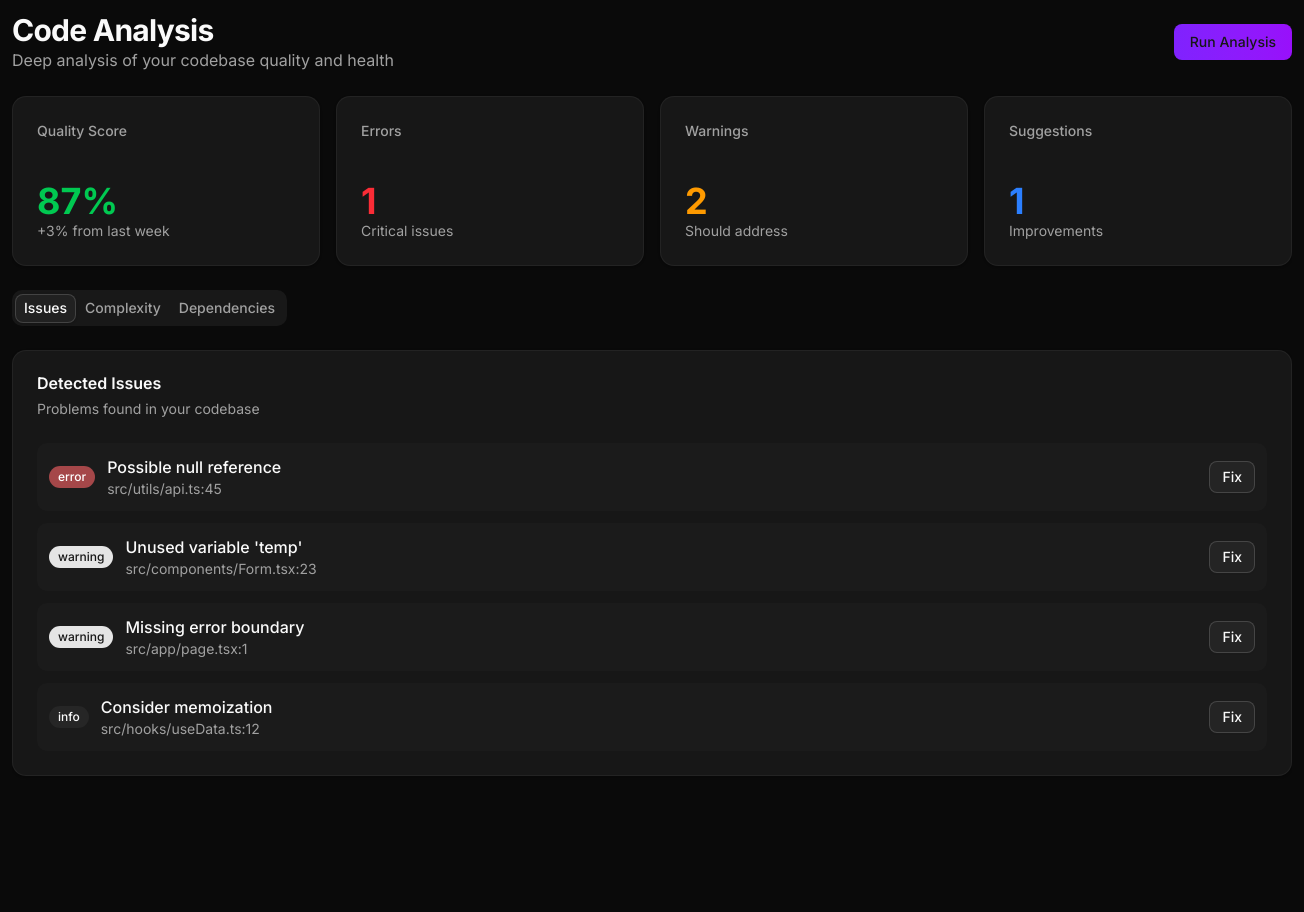
Test: AnalysisPage › changes button text when analyzing
Click the button "Run Analysis": (1233, 42) [1174,24,1292,60]
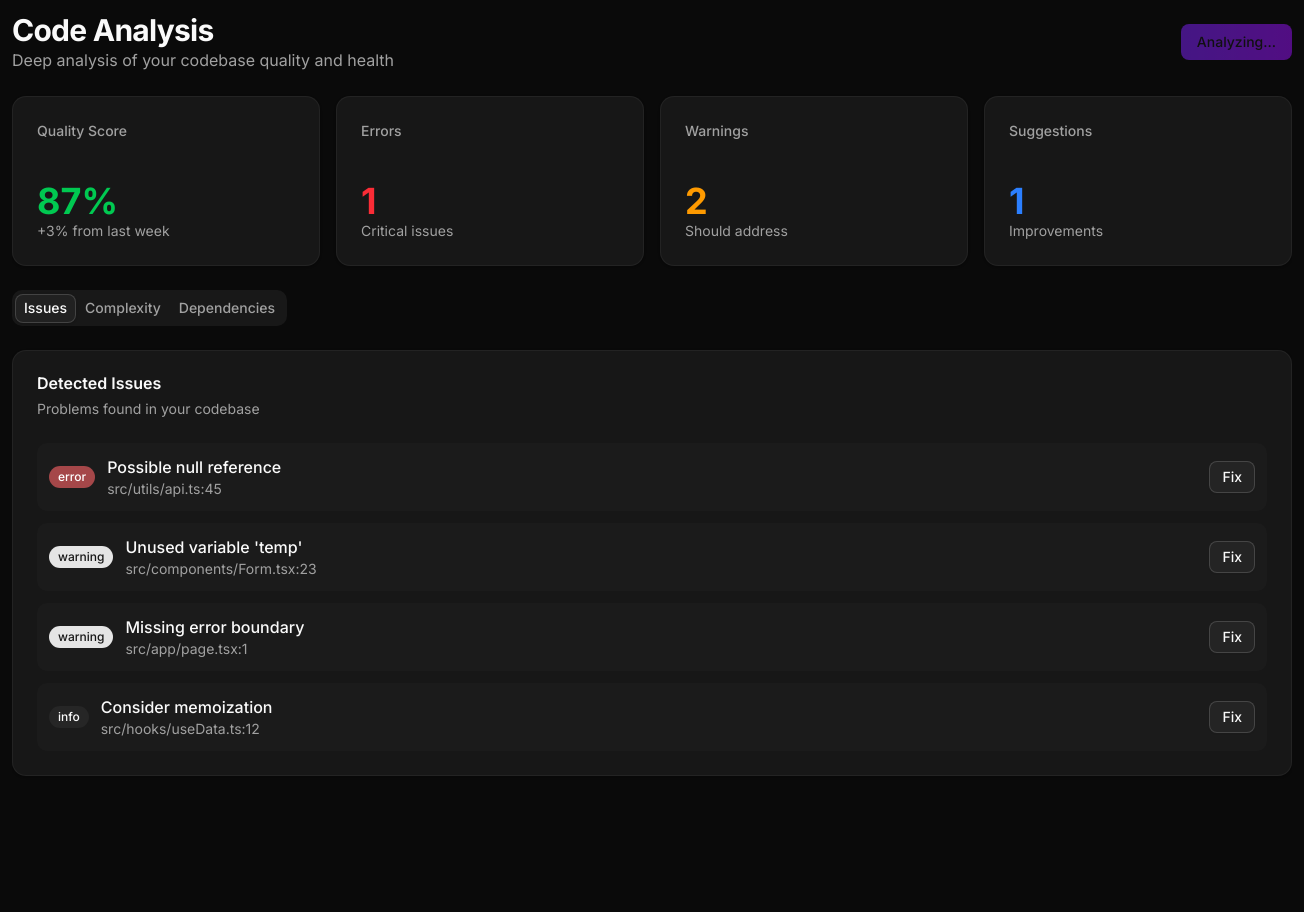
Expected: the button "Analyzing..." is shown, [1181,24,1292,60]
